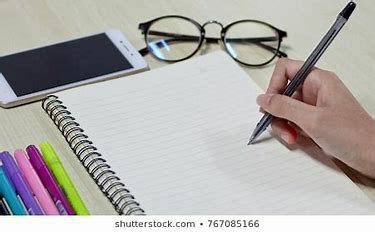pen: (247, 1, 353, 145)
